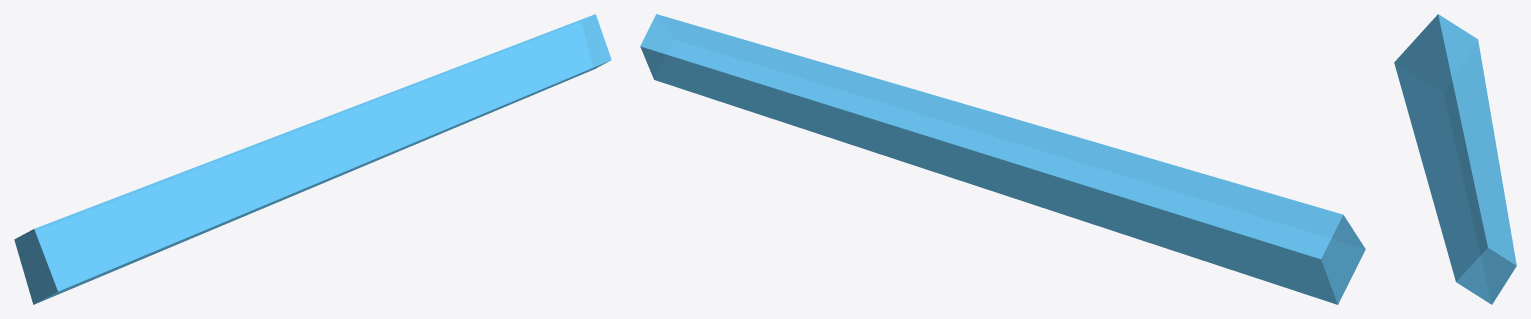
Rendered from Event_420094457_HErechit_61.fbx.
3 renders of one model, left to right at view 1: azimuth 30°, elevation 25°; view 2: azimuth 150°, elevation 25°; view 3: azimuth 270°, elevation 25°, orthographic. The views are drawn at different scales.
Visible parts, largest first — view 1: Model; view 2: Model; view 3: Model.
Boxes of the visible parts, left/top/right/bottom form: Model: left=14, top=14, right=611, bottom=304; Model: left=640, top=14, right=1365, bottom=304; Model: left=1394, top=14, right=1516, bottom=304.
Bounding box in the file's own units: 4.08 × 0.8788 × 0.7354.
